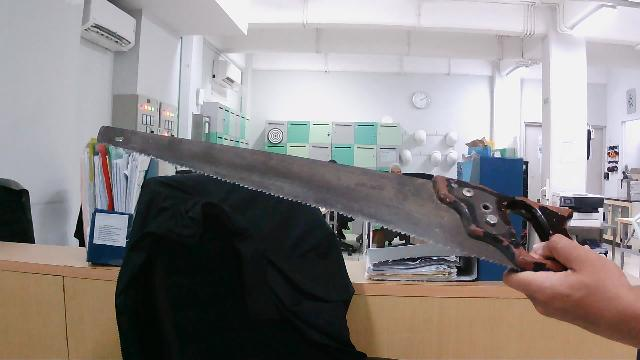gergaji_kayu: (91, 113, 583, 289)
